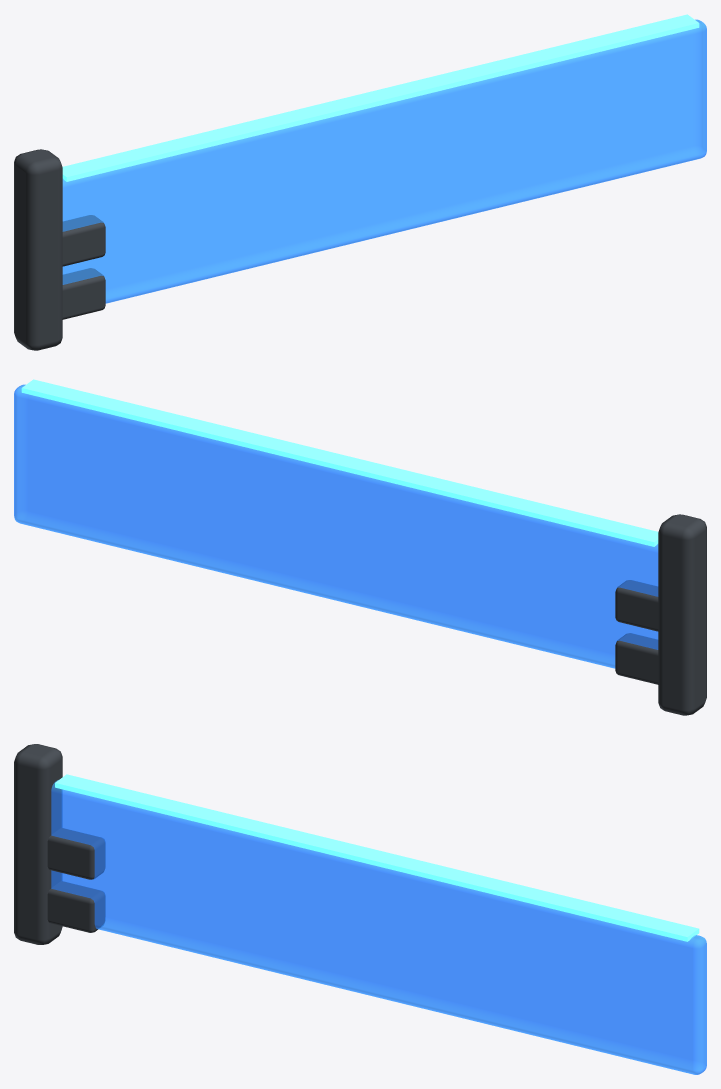
File: gate_flap_wide.glb
The picture shows the model from 3 angles, top to bottom: view 1: azimuth 30°, elevation 25°; view 2: azimuth 150°, elevation 25°; view 3: azimuth 330°, elevation 25°; orthographic projection.
Visible parts, largest first — view 1: FlapPlate, FlapEdgeLed, FlapHinge, FlapBracketA, FlapBracketB; view 2: FlapPlate, FlapEdgeLed, FlapHinge, FlapBracketA, FlapBracketB; view 3: FlapPlate, FlapEdgeLed, FlapHinge, FlapBracketA, FlapBracketB.
Boxes of the visible parts, bbox=[...] form: FlapPlate: bbox=[62, 19, 706, 303]; FlapEdgeLed: bbox=[62, 14, 699, 181]; FlapHinge: bbox=[14, 149, 62, 350]; FlapBracketA: bbox=[62, 215, 105, 266]; FlapBracketB: bbox=[62, 268, 105, 319]; FlapPlate: bbox=[14, 384, 658, 668]; FlapEdgeLed: bbox=[21, 379, 658, 546]; FlapHinge: bbox=[658, 514, 706, 715]; FlapBracketA: bbox=[615, 580, 658, 631]; FlapBracketB: bbox=[615, 633, 658, 684]; FlapPlate: bbox=[51, 780, 706, 1074]; FlapEdgeLed: bbox=[55, 774, 699, 941]; FlapHinge: bbox=[14, 744, 62, 944]; FlapBracketA: bbox=[47, 828, 105, 879]; FlapBracketB: bbox=[47, 881, 105, 932].
Size of the model in its own units: 0.606 by 0.16 by 0.032.
